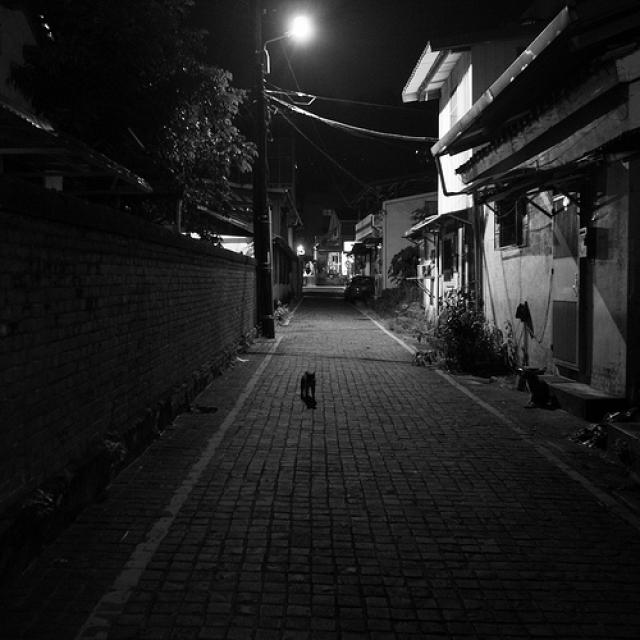Cat: (510, 365, 567, 413), (284, 364, 330, 416)
car: (328, 245, 377, 319)
